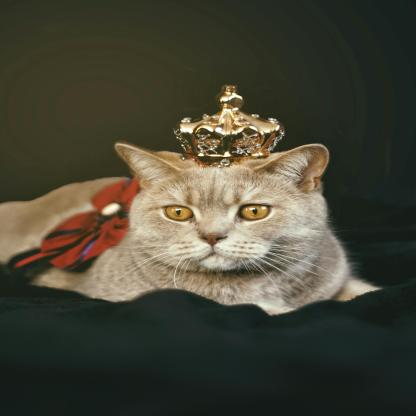cat: (0, 139, 388, 314)
